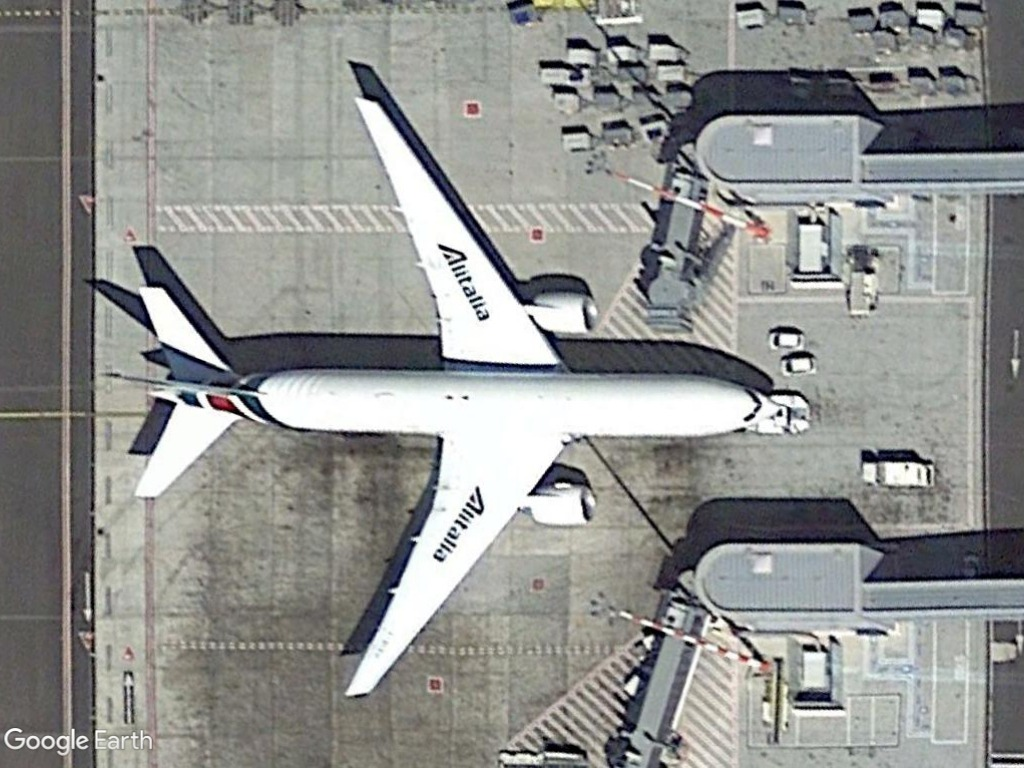airliner: (133, 80, 778, 702)
car: (777, 353, 818, 377), (764, 329, 806, 352)
truck: (857, 456, 938, 492)
